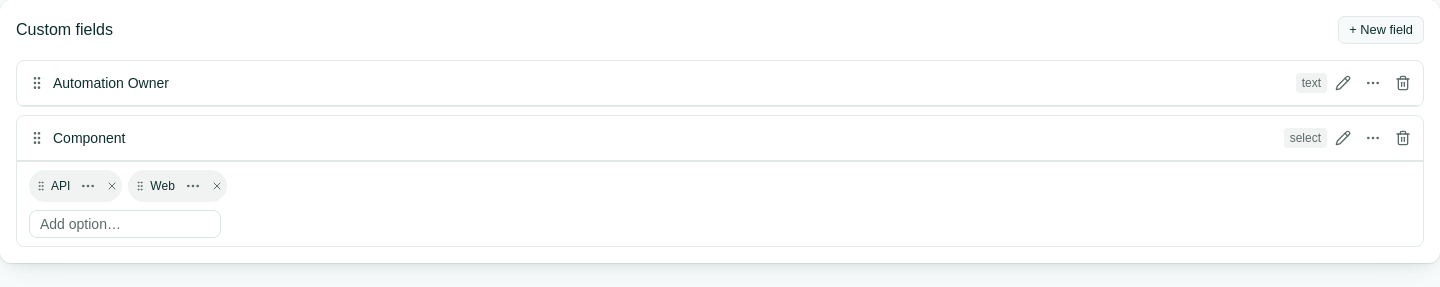
Test: CustomFieldsCard › disables Move up on the first field and Move down on the last
The image size is (1440, 287).
Click the button named "actions for automation owner" at (1373, 83), box x1=1359 y1=69 x2=1387 y2=97
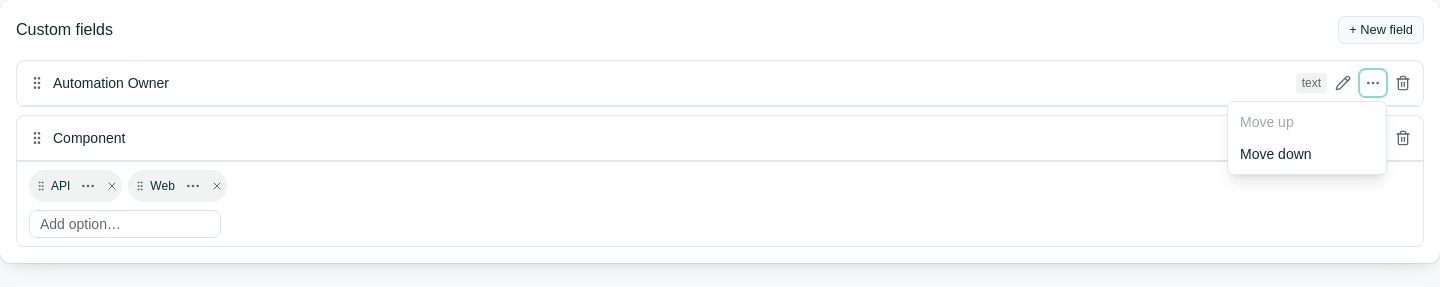
Result: the menu item "Move up" is disabled at x1=1228 y1=106 x2=1386 y2=138
